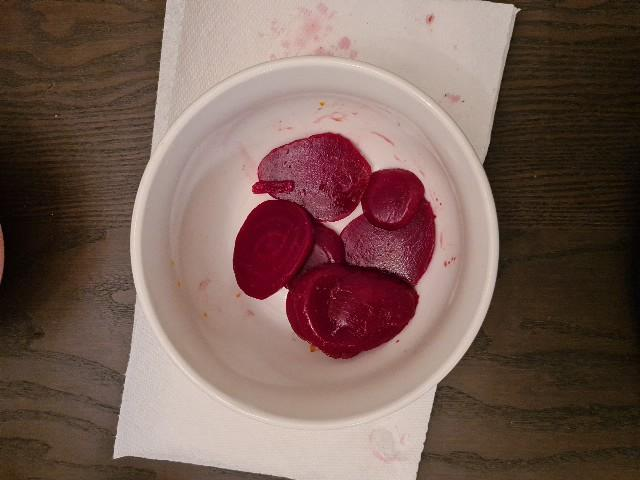kichen waste: (234, 133, 436, 358)
